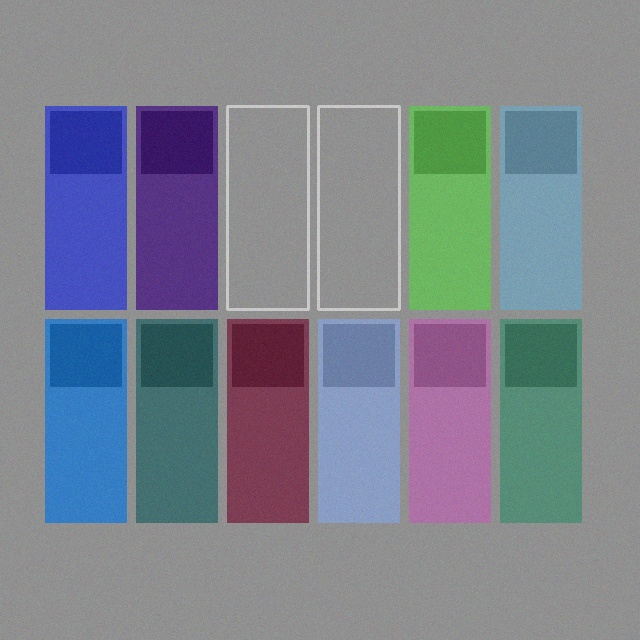space-empty: (227, 106, 308, 309), (318, 106, 399, 309)
space-occupied: (45, 106, 126, 309), (136, 106, 217, 309), (409, 106, 490, 309), (500, 106, 581, 309), (45, 319, 126, 522), (136, 319, 217, 522), (227, 319, 308, 522), (318, 319, 399, 522), (409, 319, 490, 522), (500, 319, 581, 522)
